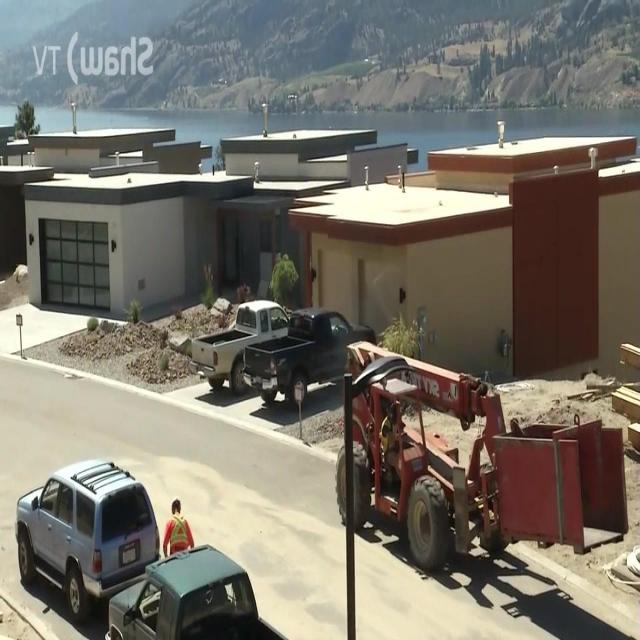Reflective-Jacket: (165, 516, 193, 556)
Safety-Helmet: (171, 496, 183, 515)
